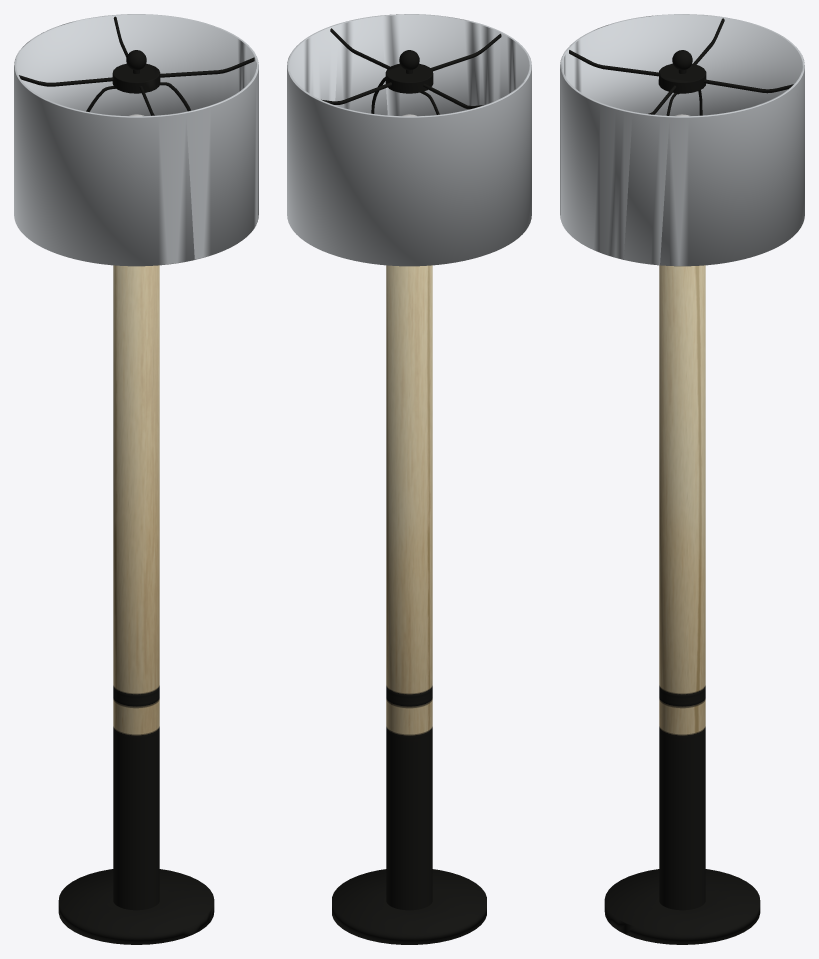
The picture shows the model from 3 angles, left to right: view 1: azimuth 30°, elevation 25°; view 2: azimuth 150°, elevation 25°; view 3: azimuth 270°, elevation 25°; orthographic projection.
Parts seen in each view (by area): view 1: RootNode; view 2: RootNode; view 3: RootNode.
Part boxes in pixels (bbox=[...]): RootNode: bbox=[14, 14, 258, 944]; RootNode: bbox=[287, 14, 531, 944]; RootNode: bbox=[560, 14, 804, 944].
Bounding box in the file's own units: 0.3813 × 1.48 × 0.3813.
Materials: 1 (1 with a texture image).
